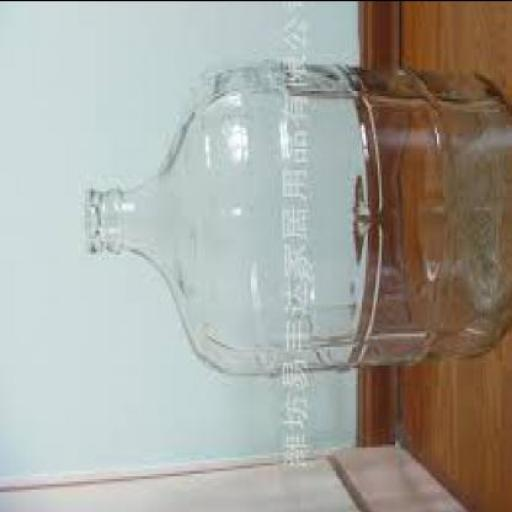glass: (83, 66, 510, 383)
